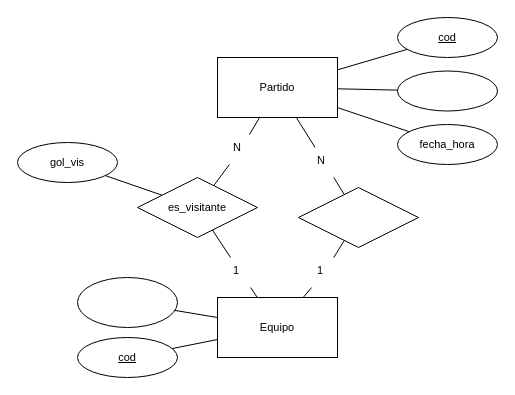
This 515x395 diagram has some shape labels left out. Here are the shapes that lost their labels. From the top down, the centre of each, then its label:
At pixel 447 90: "gol_loc".
At pixel 358 217: "es_local".
At pixel 127 302: "nombre".
